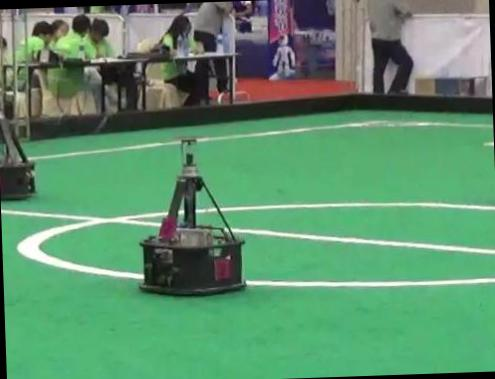robot: (140, 138, 245, 293), (0, 117, 34, 198)
